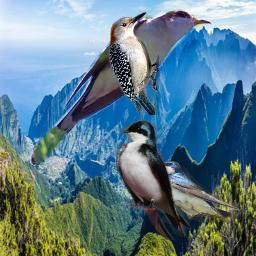Cuckoo: (30, 9, 211, 165)
Swallow: (115, 119, 190, 240), (155, 161, 240, 225)
Woodpecker: (109, 12, 159, 115)
